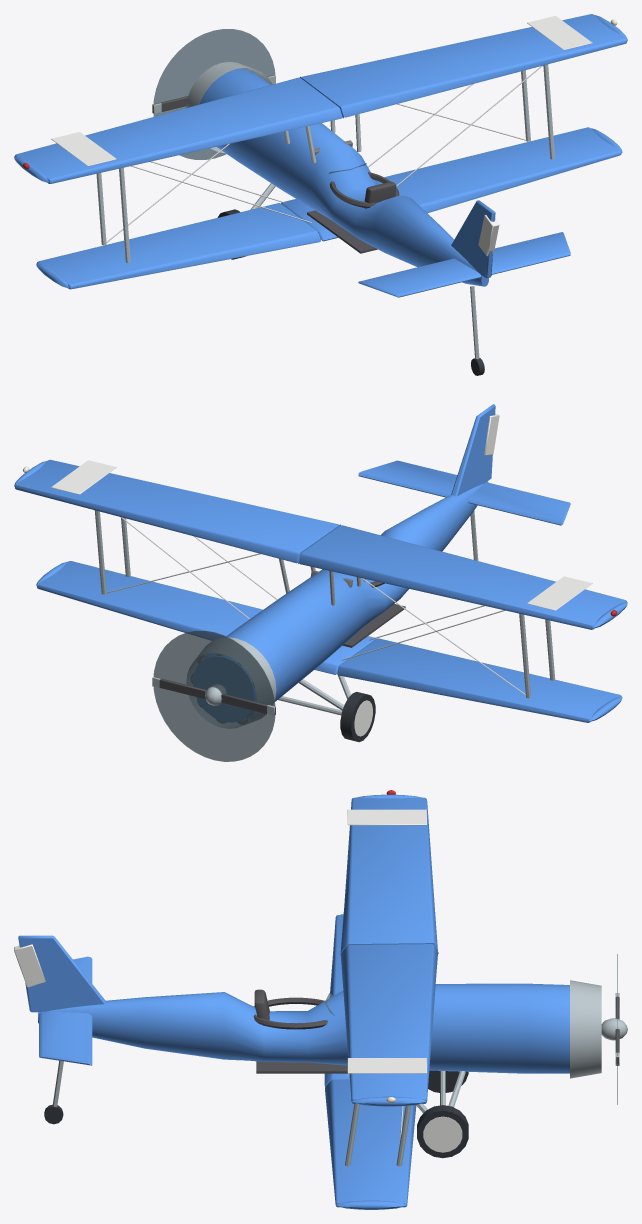
File: Barnstormer.fbx
The picture shows the model from 3 angles, top to bottom: view 1: azimuth 30°, elevation 25°; view 2: azimuth 150°, elevation 25°; view 3: azimuth 270°, elevation 25°; orthographic projection. The views are drawn at different scales.
Parts seen in each view (by area): view 1: Body__paint, Disc__glass, Body__metal, Body__white, Body__interior, Body__chrome; view 2: Body__paint, Disc__glass, Body__metal, Body__white, Body__chrome, Prop__interior, Body__rubber, Body__interior; view 3: Body__paint, Body__metal, Body__white, Body__interior, Body__rubber.
Part boxes in pixels (bbox=[...]): Body__paint: bbox=[14, 14, 627, 297]; Disc__glass: bbox=[153, 29, 275, 159]; Body__metal: bbox=[96, 62, 554, 359]; Body__white: bbox=[51, 16, 592, 256]; Body__interior: bbox=[307, 172, 399, 253]; Body__chrome: bbox=[106, 65, 543, 242]; Body__paint: bbox=[14, 404, 627, 722]; Disc__glass: bbox=[153, 630, 275, 761]; Body__metal: bbox=[94, 510, 555, 728]; Body__white: bbox=[51, 414, 592, 736]; Body__chrome: bbox=[106, 517, 525, 695]; Prop__interior: bbox=[159, 679, 275, 714]; Body__rubber: bbox=[340, 692, 375, 742]; Body__interior: bbox=[342, 581, 405, 647]; Body__paint: bbox=[18, 794, 569, 1209]; Body__metal: bbox=[52, 980, 627, 1166]; Body__white: bbox=[14, 809, 462, 1152]; Body__interior: bbox=[253, 989, 347, 1073]; Body__rubber: bbox=[44, 1070, 468, 1158].
Bounding box in the file's own units: 9.22 × 2.6 × 7.73.
